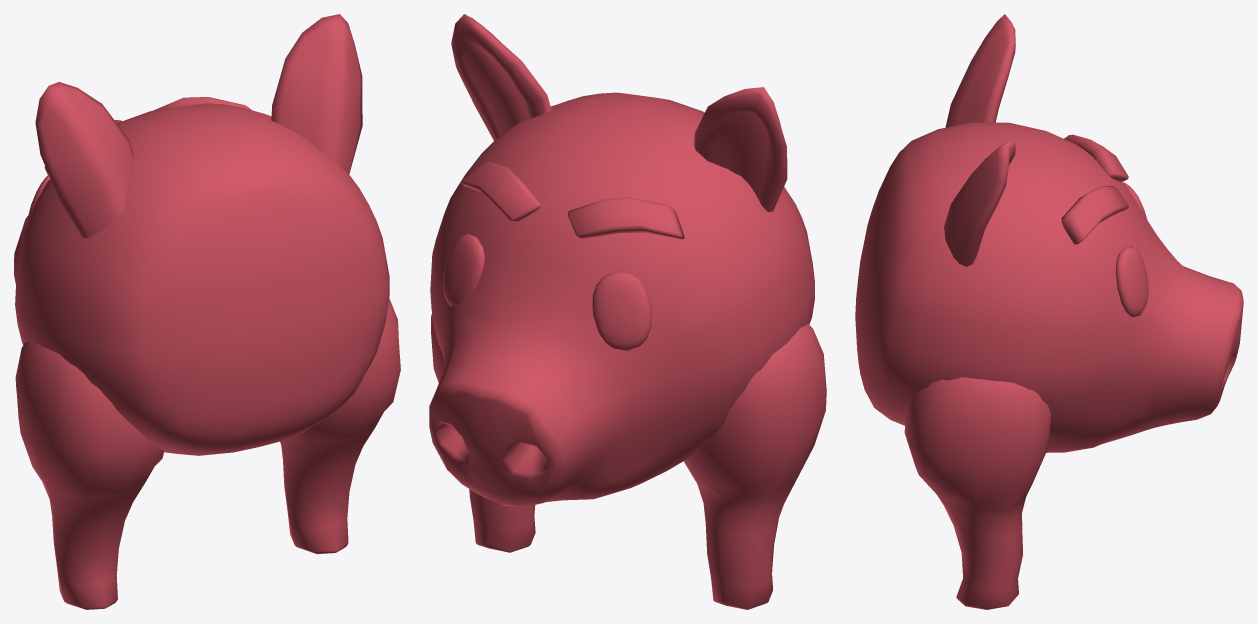
The model's file is B-Oink!_Char_front.fbx.
3 renders of one model, left to right at view 1: azimuth 30°, elevation 25°; view 2: azimuth 150°, elevation 25°; view 3: azimuth 270°, elevation 25°, orthographic. The views are drawn at different scales.
Parts seen in each view (by area): view 1: Head_LP, Leg_l_LP, Ears_LP, Leg_r_LP, Eyebrows_LP; view 2: Head_LP, Leg_l_LP, Ears_LP, Eyebrows_LP, Eyes_LP, Leg_r_LP; view 3: Head_LP, Leg_r_LP, Ears_LP, Eyebrows_LP, Eyes_LP.
Boxes of the visible parts, x1=… form: Head_LP: x1=14, y1=103, x2=389, y2=455; Leg_l_LP: x1=15, y1=340, x2=164, y2=609; Ears_LP: x1=35, y1=14, x2=362, y2=238; Leg_r_LP: x1=280, y1=298, x2=400, y2=554; Eyebrows_LP: x1=44, y1=97, x2=251, y2=176; Head_LP: x1=429, y1=92, x2=814, y2=506; Leg_l_LP: x1=683, y1=323, x2=826, y2=609; Ears_LP: x1=451, y1=14, x2=787, y2=211; Eyebrows_LP: x1=461, y1=161, x2=684, y2=239; Eyes_LP: x1=442, y1=233, x2=651, y2=351; Leg_r_LP: x1=431, y1=314, x2=535, y2=552; Head_LP: x1=855, y1=122, x2=1243, y2=452; Leg_r_LP: x1=904, y1=377, x2=1051, y2=609; Ears_LP: x1=944, y1=14, x2=1015, y2=266; Eyebrows_LP: x1=1061, y1=134, x2=1128, y2=244; Eyes_LP: x1=1116, y1=182, x2=1148, y2=317.
Bounding box in the file's own units: 278 × 384 × 288.
